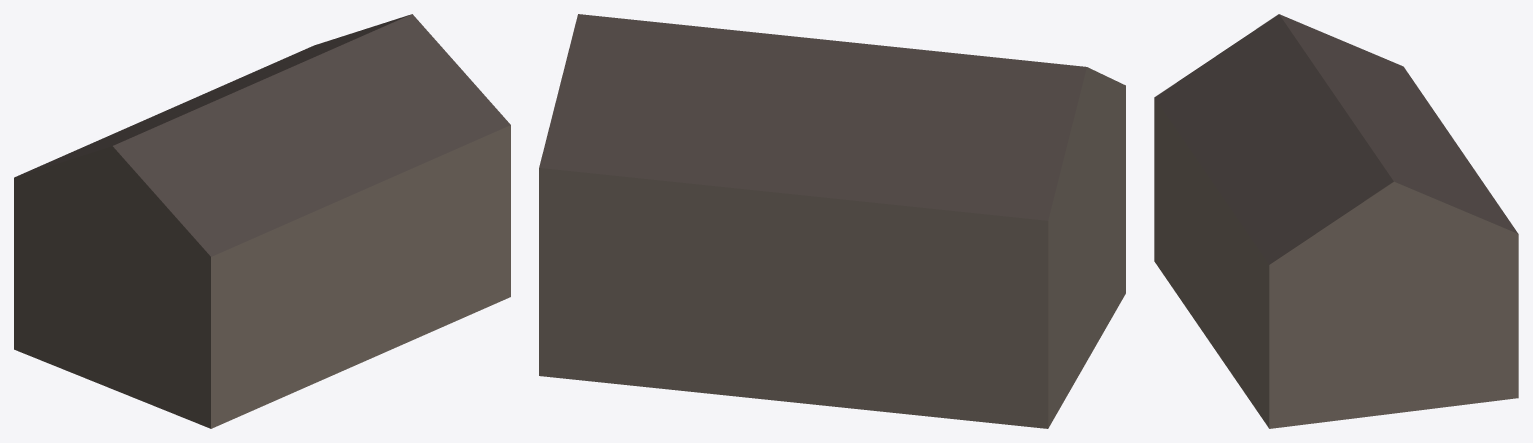
3 renders of one model, left to right at view 1: azimuth 30°, elevation 25°; view 2: azimuth 150°, elevation 25°; view 3: azimuth 270°, elevation 25°, orthographic. The views are drawn at different scales.
Visible parts, largest first — view 1: HP-w435452353; view 2: HP-w435452353; view 3: HP-w435452353.
Boxes of the visible parts, x1=… form: HP-w435452353: x1=14, y1=14, x2=510, y2=428; HP-w435452353: x1=539, y1=14, x2=1125, y2=428; HP-w435452353: x1=1154, y1=14, x2=1518, y2=428.
Bounding box in the file's own units: 23.36 × 12.73 × 18.12.
